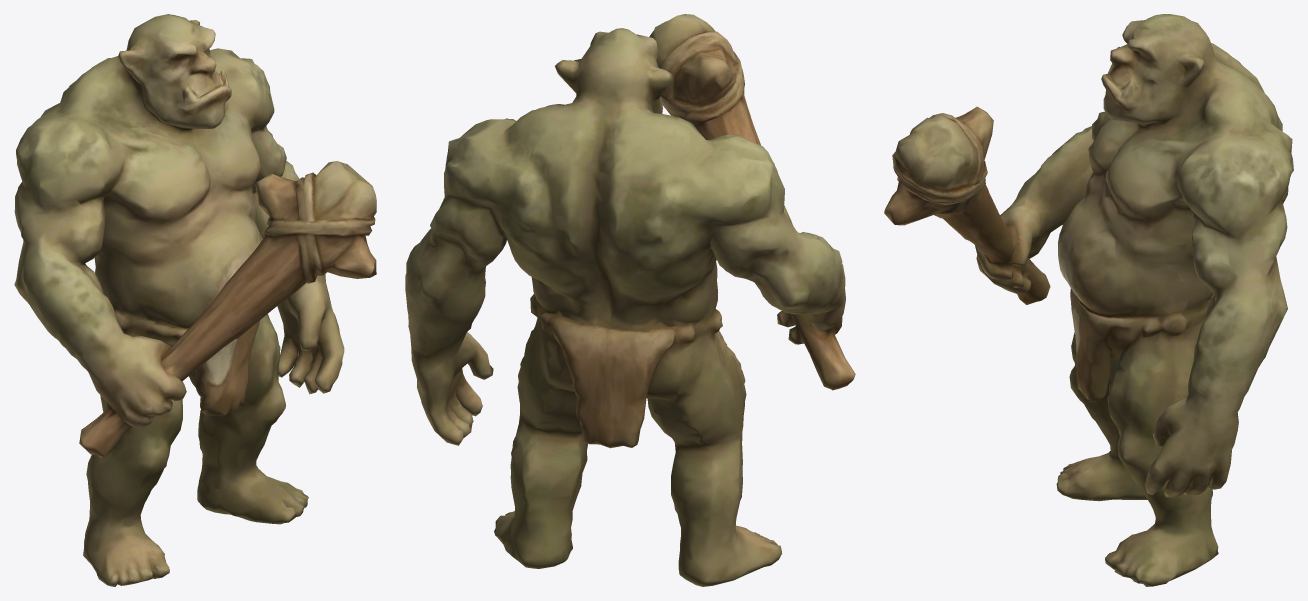
File: source.glb
3 renders of one model, left to right at view 1: azimuth 30°, elevation 25°; view 2: azimuth 150°, elevation 25°; view 3: azimuth 270°, elevation 25°, orthographic. The views are drawn at different scales.
Parts seen in each view (by area): view 1: tripo_node_d2e2a554-cd8e-4cc4-98a0-6bff2edf3d4d; view 2: tripo_node_d2e2a554-cd8e-4cc4-98a0-6bff2edf3d4d; view 3: tripo_node_d2e2a554-cd8e-4cc4-98a0-6bff2edf3d4d.
Boxes of the visible parts, x1,y1,x2,y2 form: tripo_node_d2e2a554-cd8e-4cc4-98a0-6bff2edf3d4d: (14,14,376,586); tripo_node_d2e2a554-cd8e-4cc4-98a0-6bff2edf3d4d: (405,14,855,586); tripo_node_d2e2a554-cd8e-4cc4-98a0-6bff2edf3d4d: (884,14,1293,586).
Bounding box in the file's own units: 0.8132 × 1.15 × 0.8323.
1 material, 1 textured.
